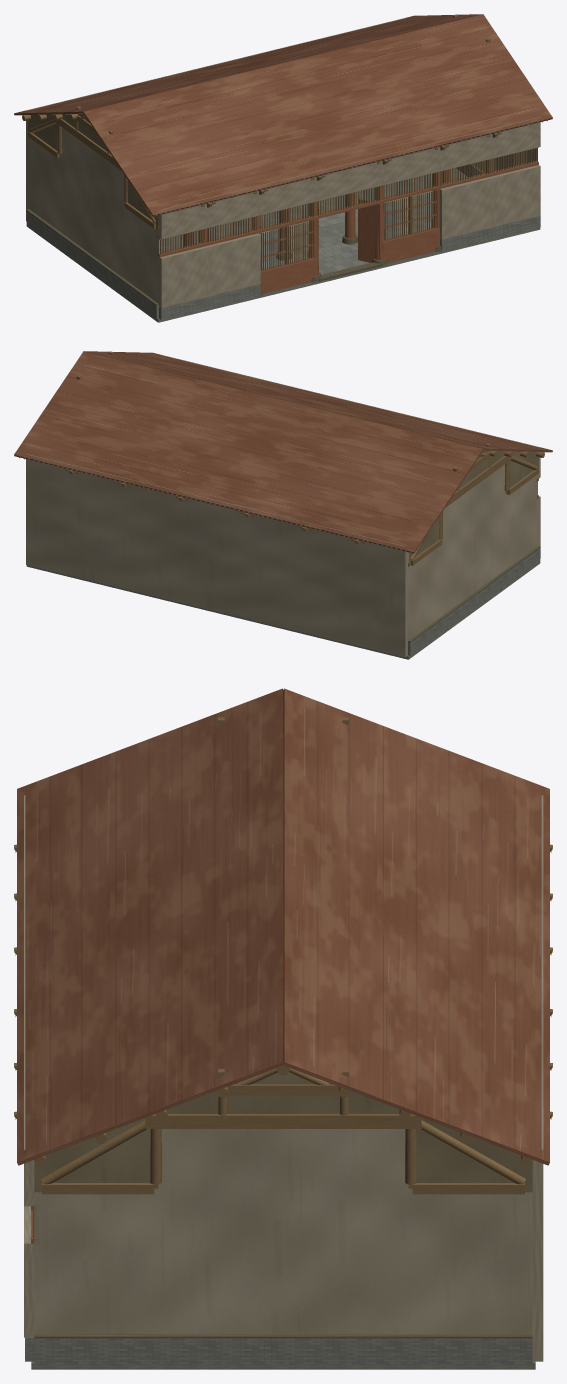
Rendered from temple-study.glb.
3 renders of one model, top to bottom at view 1: azimuth 30°, elevation 25°; view 2: azimuth 150°, elevation 25°; view 3: azimuth 270°, elevation 25°, orthographic. The views are drawn at different scales.
Parts seen in each view (by area): view 1: exposed-timber-roof, south-entrance-and-windows, stepped-mural-wall (×2), brick-floor, west-empty-gable, timber-column (×3), upper-gable-infill, Guangsheng-Lower-Rear-Hall-RESEARCH-STUDY; view 2: exposed-timber-roof, Guangsheng-Lower-Rear-Hall-RESEARCH-STUDY, stepped-mural-wall, west-empty-gable, upper-gable-infill, brick-floor, south-entrance-and-windows; view 3: exposed-timber-roof, stepped-mural-wall, east-empty-gable, upper-gable-infill, Guangsheng-Lower-Rear-Hall-RESEARCH-STUDY, south-entrance-and-windows, brick-floor.
Boxes of the visible parts, bbox=[...] form: exposed-timber-roof: bbox=[14, 14, 552, 228]; south-entrance-and-windows: bbox=[157, 117, 540, 320]; stepped-mural-wall (×2): bbox=[30, 127, 536, 303]; brick-floor: bbox=[26, 168, 540, 322]; west-empty-gable: bbox=[26, 106, 158, 318]; timber-column (×3): bbox=[308, 185, 387, 282]; upper-gable-infill: bbox=[28, 114, 157, 229]; Guangsheng-Lower-Rear-Hall-RESEARCH-STUDY: bbox=[26, 18, 405, 221]; exposed-timber-roof: bbox=[14, 351, 552, 565]; Guangsheng-Lower-Rear-Hall-RESEARCH-STUDY: bbox=[26, 454, 408, 657]; stepped-mural-wall: bbox=[408, 464, 537, 640]; west-empty-gable: bbox=[408, 443, 540, 655]; upper-gable-infill: bbox=[409, 451, 538, 566]; brick-floor: bbox=[26, 561, 540, 659]; south-entrance-and-windows: bbox=[161, 355, 540, 558]; exposed-timber-roof: bbox=[17, 688, 549, 1194]; stepped-mural-wall: bbox=[34, 1129, 532, 1333]; east-empty-gable: bbox=[34, 1069, 532, 1363]; upper-gable-infill: bbox=[34, 1072, 532, 1192]; Guangsheng-Lower-Rear-Hall-RESEARCH-STUDY: bbox=[528, 795, 543, 1361]; south-entrance-and-windows: bbox=[24, 795, 38, 1361]; brick-floor: bbox=[31, 1361, 535, 1369].
Size of the model in its own units: 29.1 by 11.47 by 17.75.
Materials: 13 (12 with a texture image).
